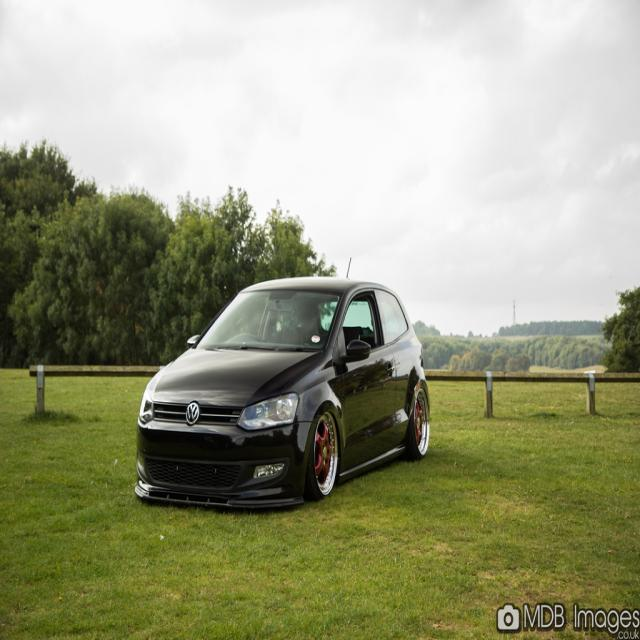car: (137, 253, 430, 510)
